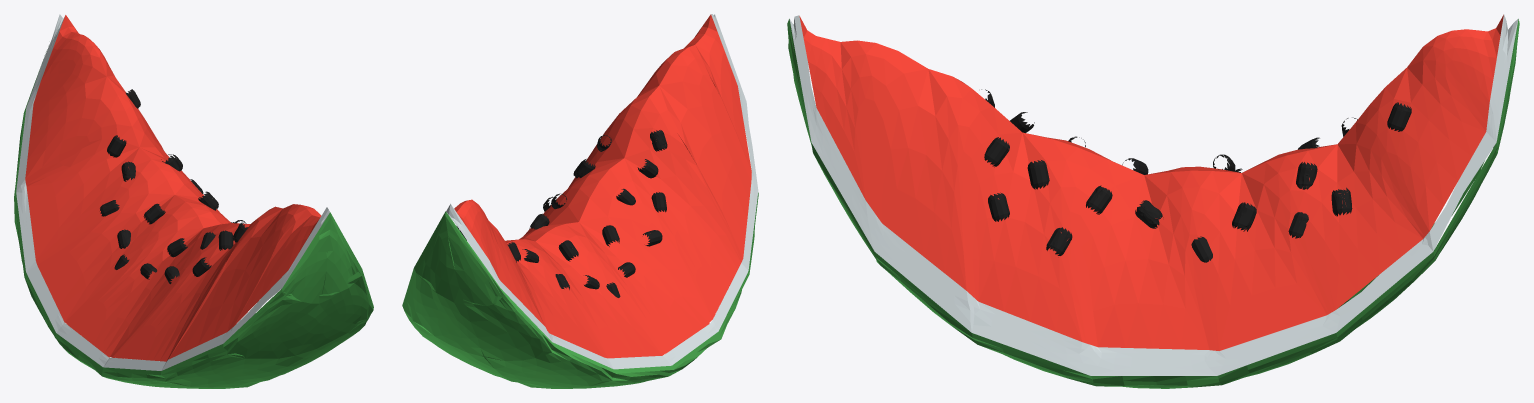
File: ready.glb
The picture shows the model from 3 angles, left to right: view 1: azimuth 30°, elevation 25°; view 2: azimuth 150°, elevation 25°; view 3: azimuth 270°, elevation 25°; orthographic projection. The views are drawn at different scales.
Parts seen in each view (by area): view 1: Node; view 2: Node; view 3: Node.
Part boxes in pixels (x1=…): Node: x1=14, y1=14, x2=373, y2=388; Node: x1=402, y1=14, x2=758, y2=388; Node: x1=787, y1=14, x2=1519, y2=388.
Bounding box in the file's own units: 0.4577 × 0.4846 × 0.9241.
